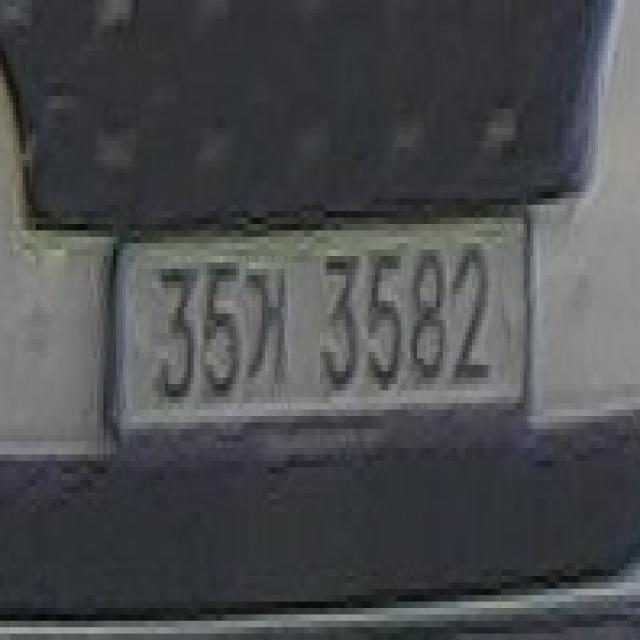2: (449, 244, 492, 390)
3: (155, 256, 197, 403), (320, 244, 362, 390)
5: (200, 256, 242, 403), (365, 250, 404, 390)
8: (408, 243, 450, 384)
geo: (239, 262, 291, 390)
license_plate: (110, 204, 533, 442)
